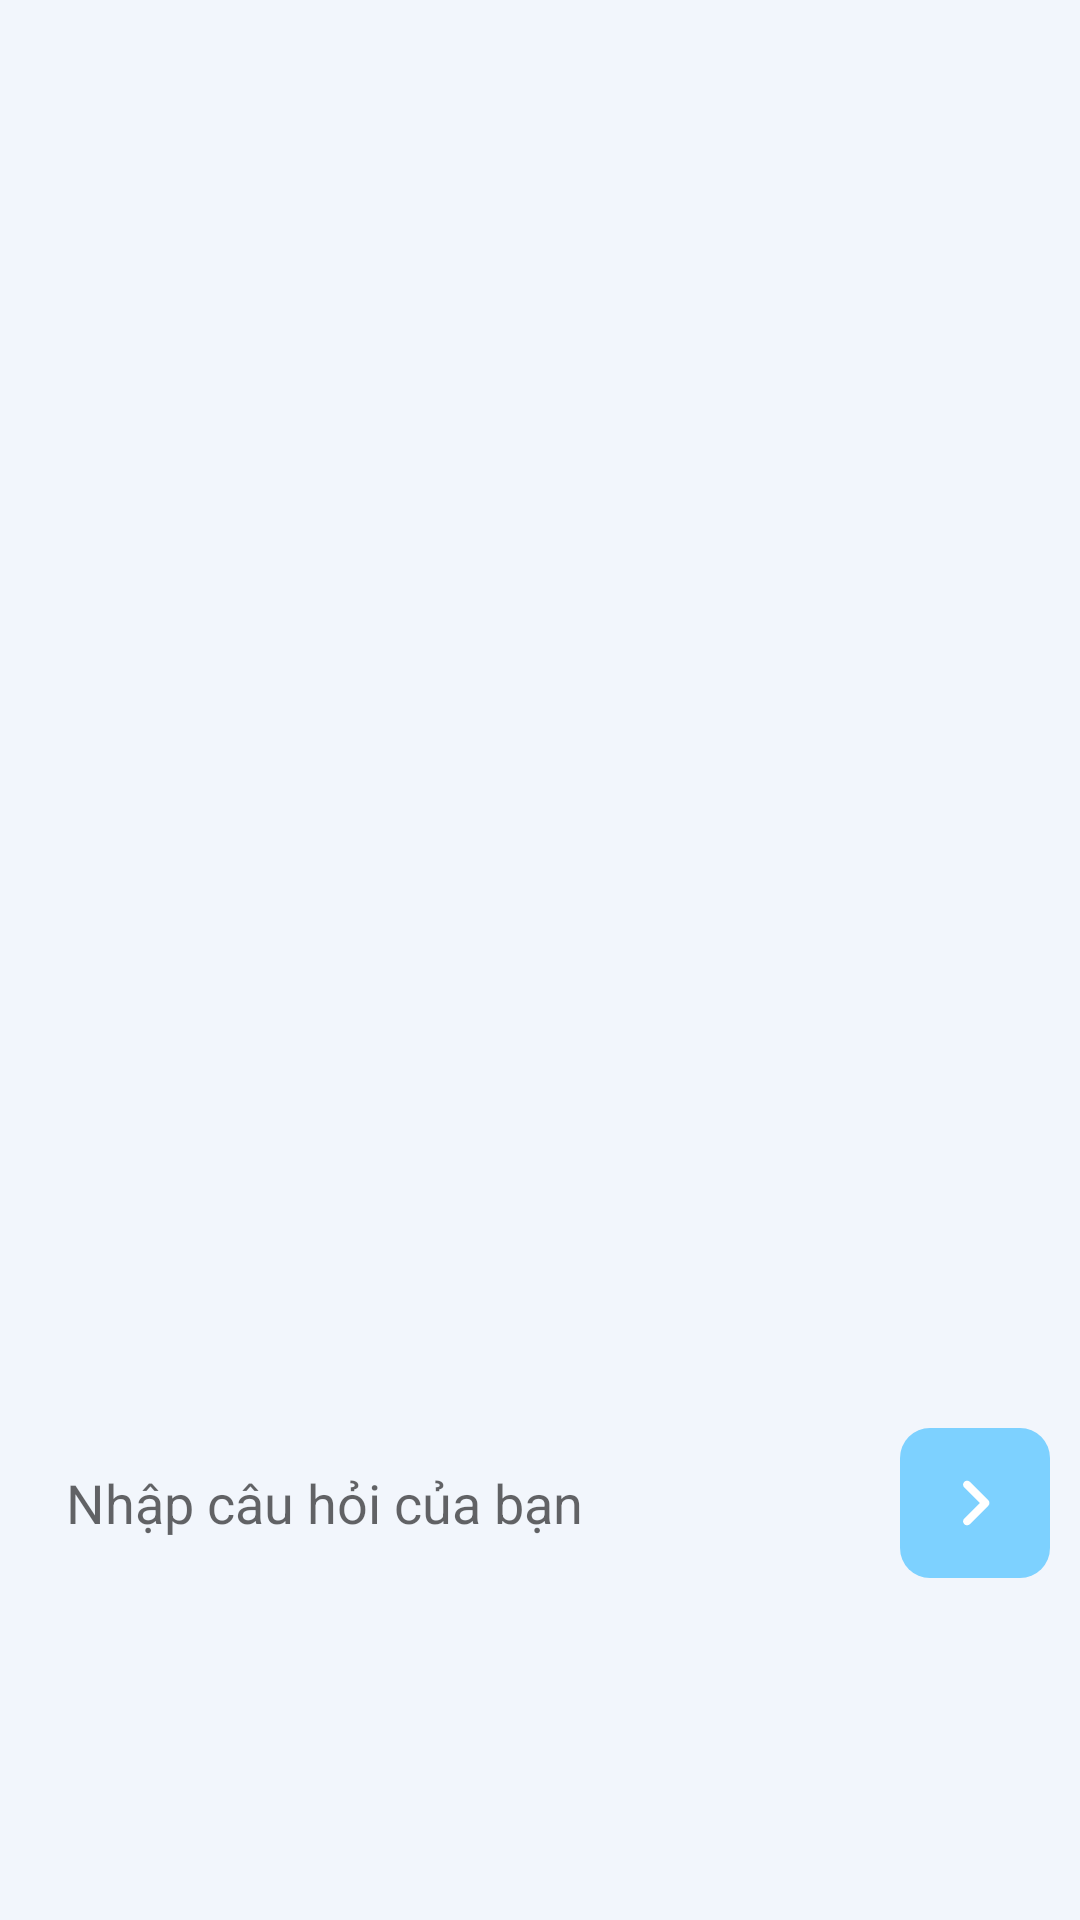

Point at icon controls on the screen. Image size 1080x1920, points as [x,y].
navigate next: [975,1503]
